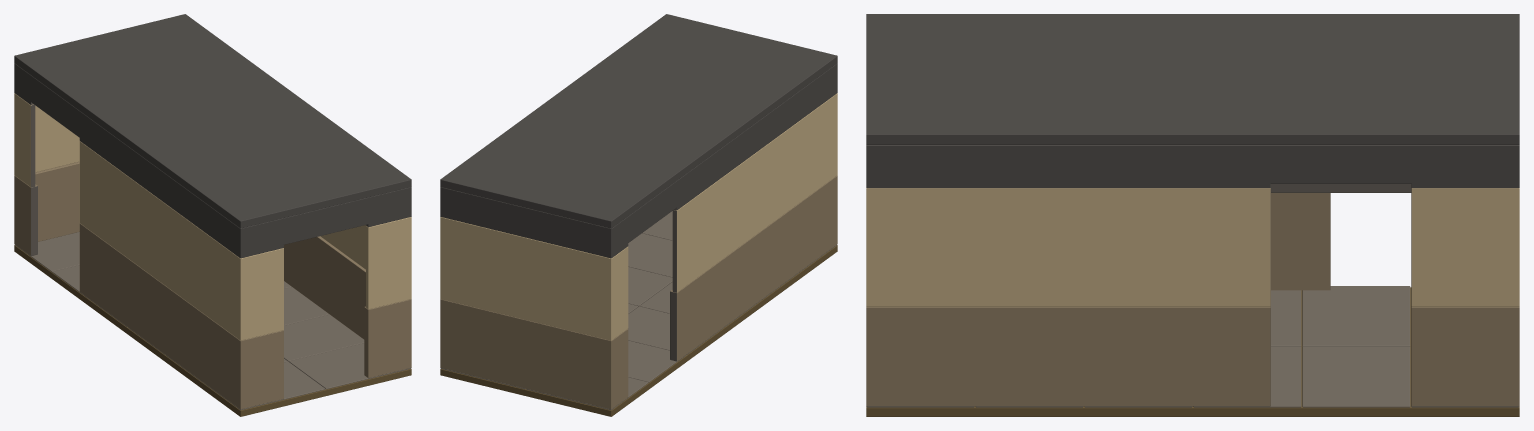
Rendered from gen-link.glb.
3 renders of one model, left to right at view 1: azimuth 30°, elevation 25°; view 2: azimuth 150°, elevation 25°; view 3: azimuth 270°, elevation 25°, orthographic. The views are drawn at different scales.
Parts seen in each view (by area): view 1: THE LINK; view 2: THE LINK; view 3: THE LINK.
Boxes of the visible parts, x1,y1,x2,y2 form: THE LINK: [14, 14, 411, 416]; THE LINK: [440, 14, 837, 416]; THE LINK: [866, 14, 1519, 416].
Bounding box in the file's own units: 2.4 × 2.62 × 5.49.
